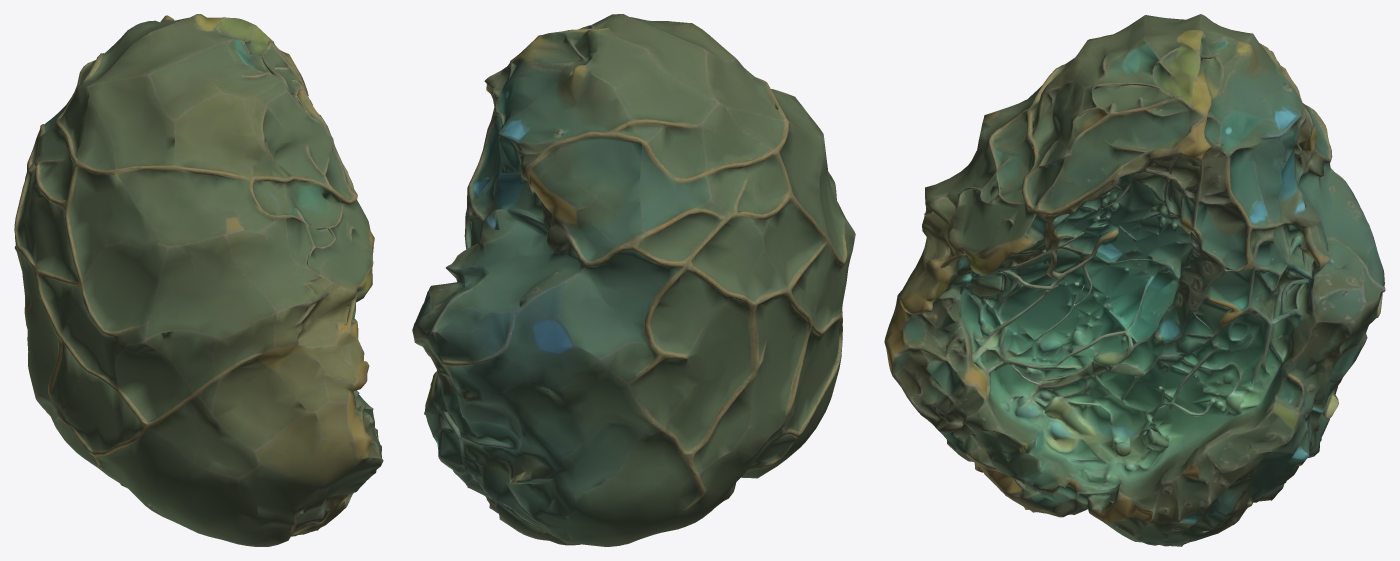
File: jade_rock.glb
3 renders of one model, left to right at view 1: azimuth 30°, elevation 25°; view 2: azimuth 150°, elevation 25°; view 3: azimuth 270°, elevation 25°, orthographic. The views are drawn at different scales.
Parts seen in each view (by area): view 1: tripo_node_98751661-abe6-4c54-ace0-19aaaaecf80c; view 2: tripo_node_98751661-abe6-4c54-ace0-19aaaaecf80c; view 3: tripo_node_98751661-abe6-4c54-ace0-19aaaaecf80c.
Boxes of the visible parts, x1=… form: tripo_node_98751661-abe6-4c54-ace0-19aaaaecf80c: x1=14, y1=14, x2=383, y2=546; tripo_node_98751661-abe6-4c54-ace0-19aaaaecf80c: x1=412, y1=14, x2=855, y2=546; tripo_node_98751661-abe6-4c54-ace0-19aaaaecf80c: x1=884, y1=14, x2=1385, y2=546.
Size of the model in its own units: 0.6596 by 1 by 0.9486.
Materials: 1 (1 with a texture image).
